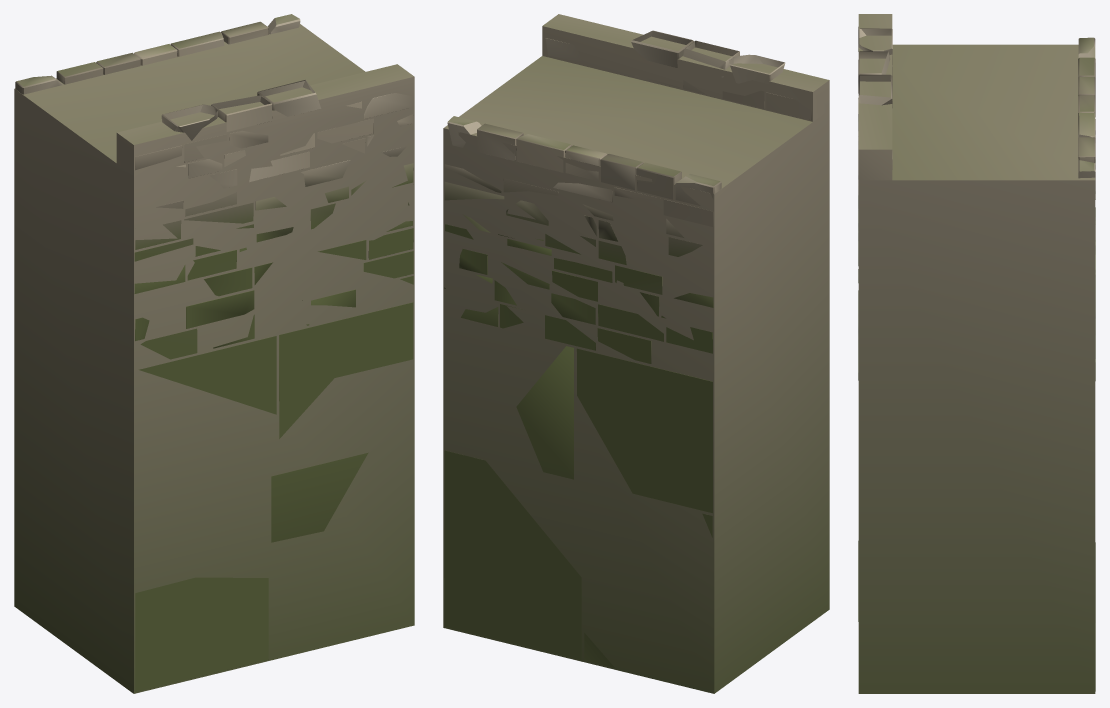
File: harbour_mole.glb
The picture shows the model from 3 angles, left to right: view 1: azimuth 30°, elevation 25°; view 2: azimuth 150°, elevation 25°; view 3: azimuth 270°, elevation 25°; orthographic projection. The views are drawn at different scales.
Parts seen in each view (by area): view 1: harbour_mole_far, harbour_mole; view 2: harbour_mole_far, harbour_mole; view 3: harbour_mole_far, harbour_mole.
Boxes of the visible parts, <box> form: harbour_mole_far: <box>14,24,414,693</box>; harbour_mole: <box>15,14,413,691</box>; harbour_mole_far: <box>443,14,829,693</box>; harbour_mole: <box>444,30,811,667</box>; harbour_mole_far: <box>858,14,1095,693</box>; harbour_mole: <box>858,27,1095,691</box>.
Size of the model in its own units: 19 by 36 by 14.02.
